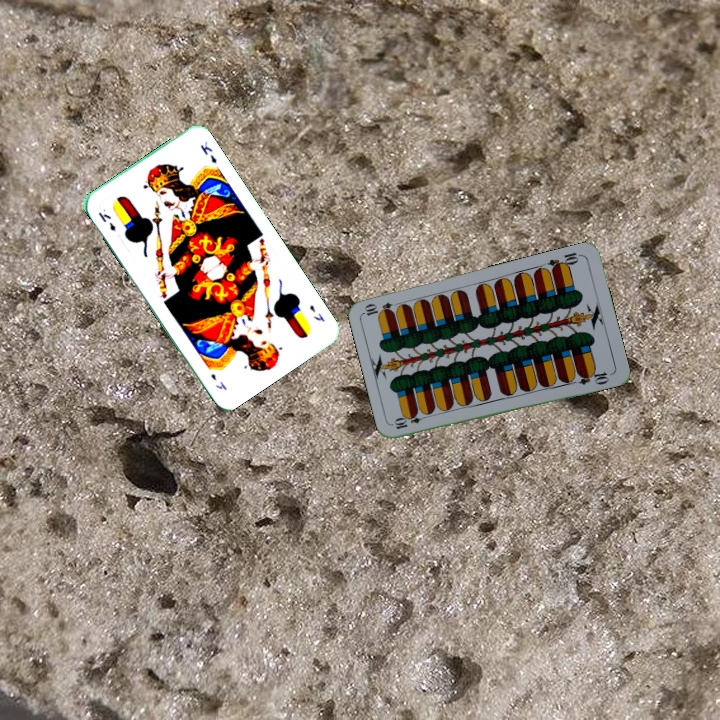E10: (544, 248, 584, 274), (390, 410, 431, 432)
EK: (94, 208, 118, 234), (306, 301, 327, 325)
